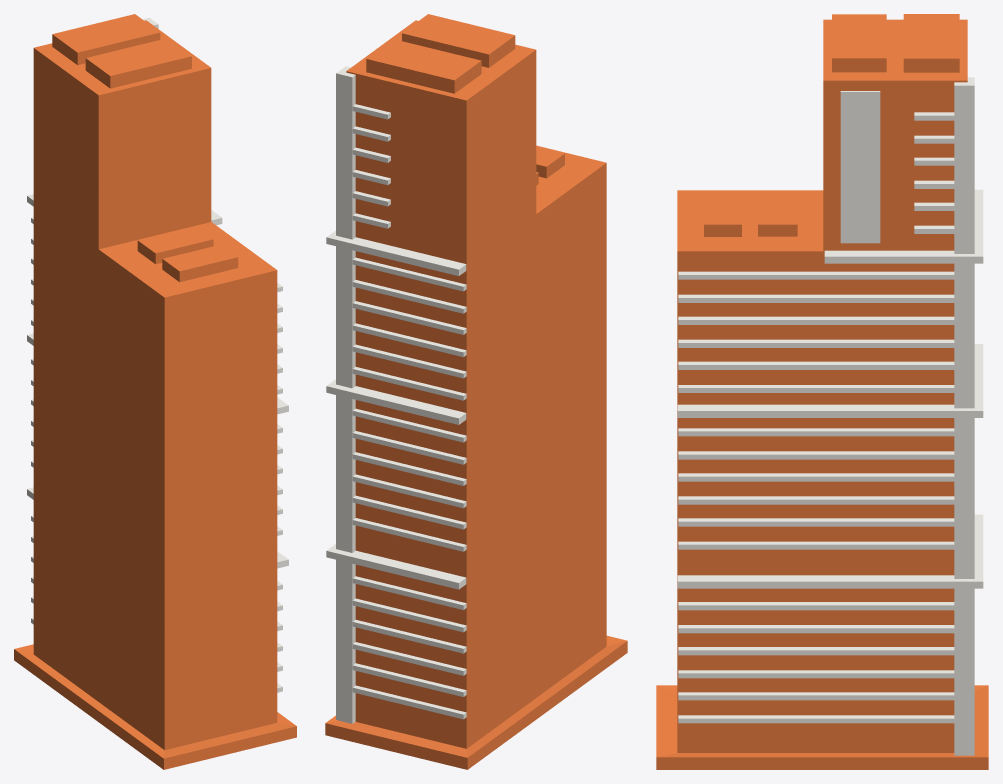
The model's file is Building_3_Gold.glb.
3 views of the same model, side by side, from view 1: azimuth 30°, elevation 25°; view 2: azimuth 150°, elevation 25°; view 3: azimuth 270°, elevation 25° (orthographic). The views are drawn at different scales.
Visible parts, largest first — view 1: pCube17; view 2: pCube17; view 3: pCube17.
Part boxes in pixels (x1,y1,x2,y2): pCube17: (14,14,296,769); pCube17: (325,14,627,769); pCube17: (656,14,988,769).
Size of the model in its own units: 14.22 by 63.56 by 27.42.
